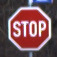stopsign: (8, 7, 52, 51)
